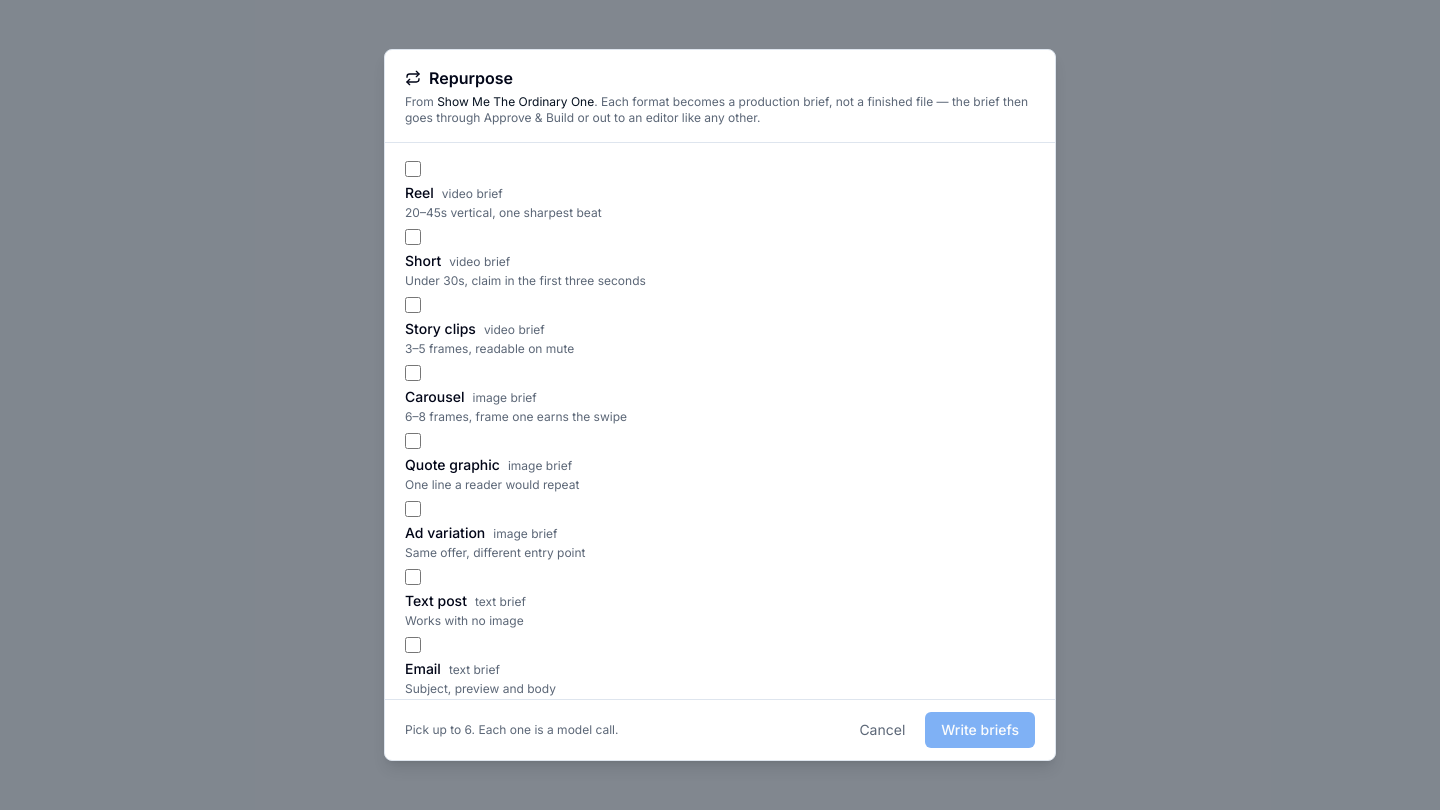
Test: RepurposeModal — choosing formats › un-ticks a format that was ticked
The width and height of the screenshot is (1440, 810).
Step 1. Click the checkbox labelled "Reel video brief 20–45s vertical, one sharpest beat" → (413, 169), box top-left (405, 161), bottom-right (421, 177)
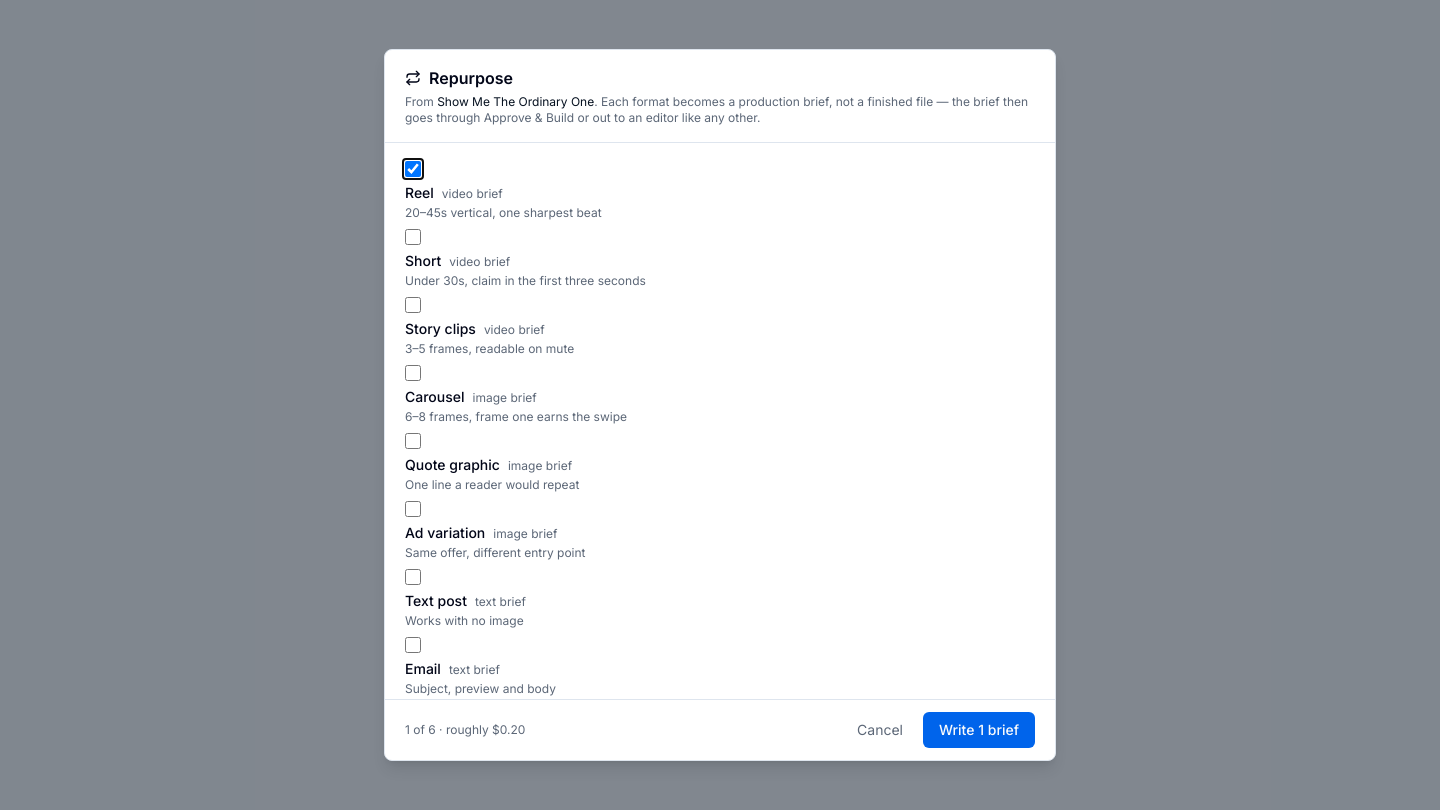
Step 2. Click the checkbox labelled "Reel video brief 20–45s vertical, one sharpest beat" → (413, 169), box top-left (405, 161), bottom-right (421, 177)
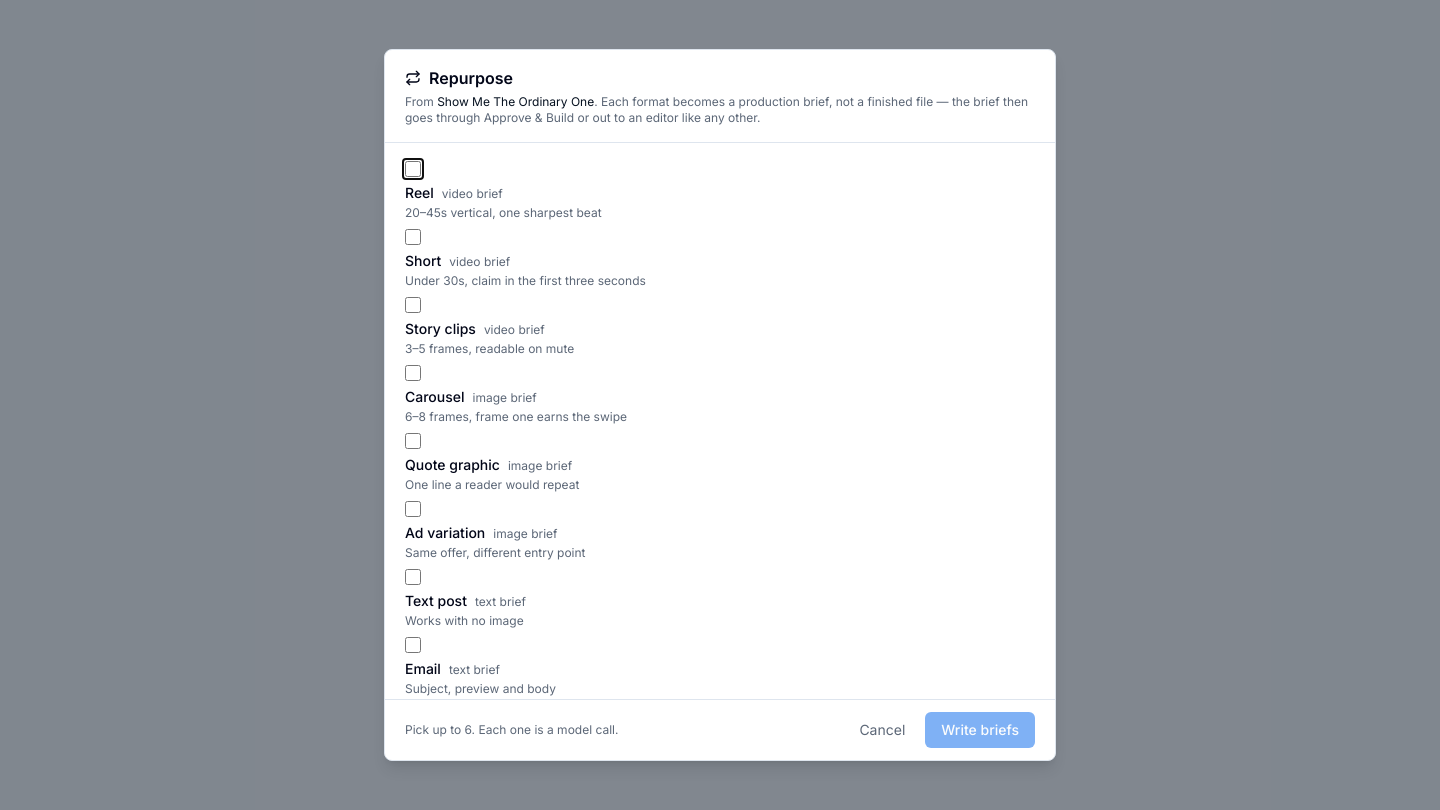
expect the button "Write briefs" is disabled: met, box top-left (925, 712), bottom-right (1035, 748)
